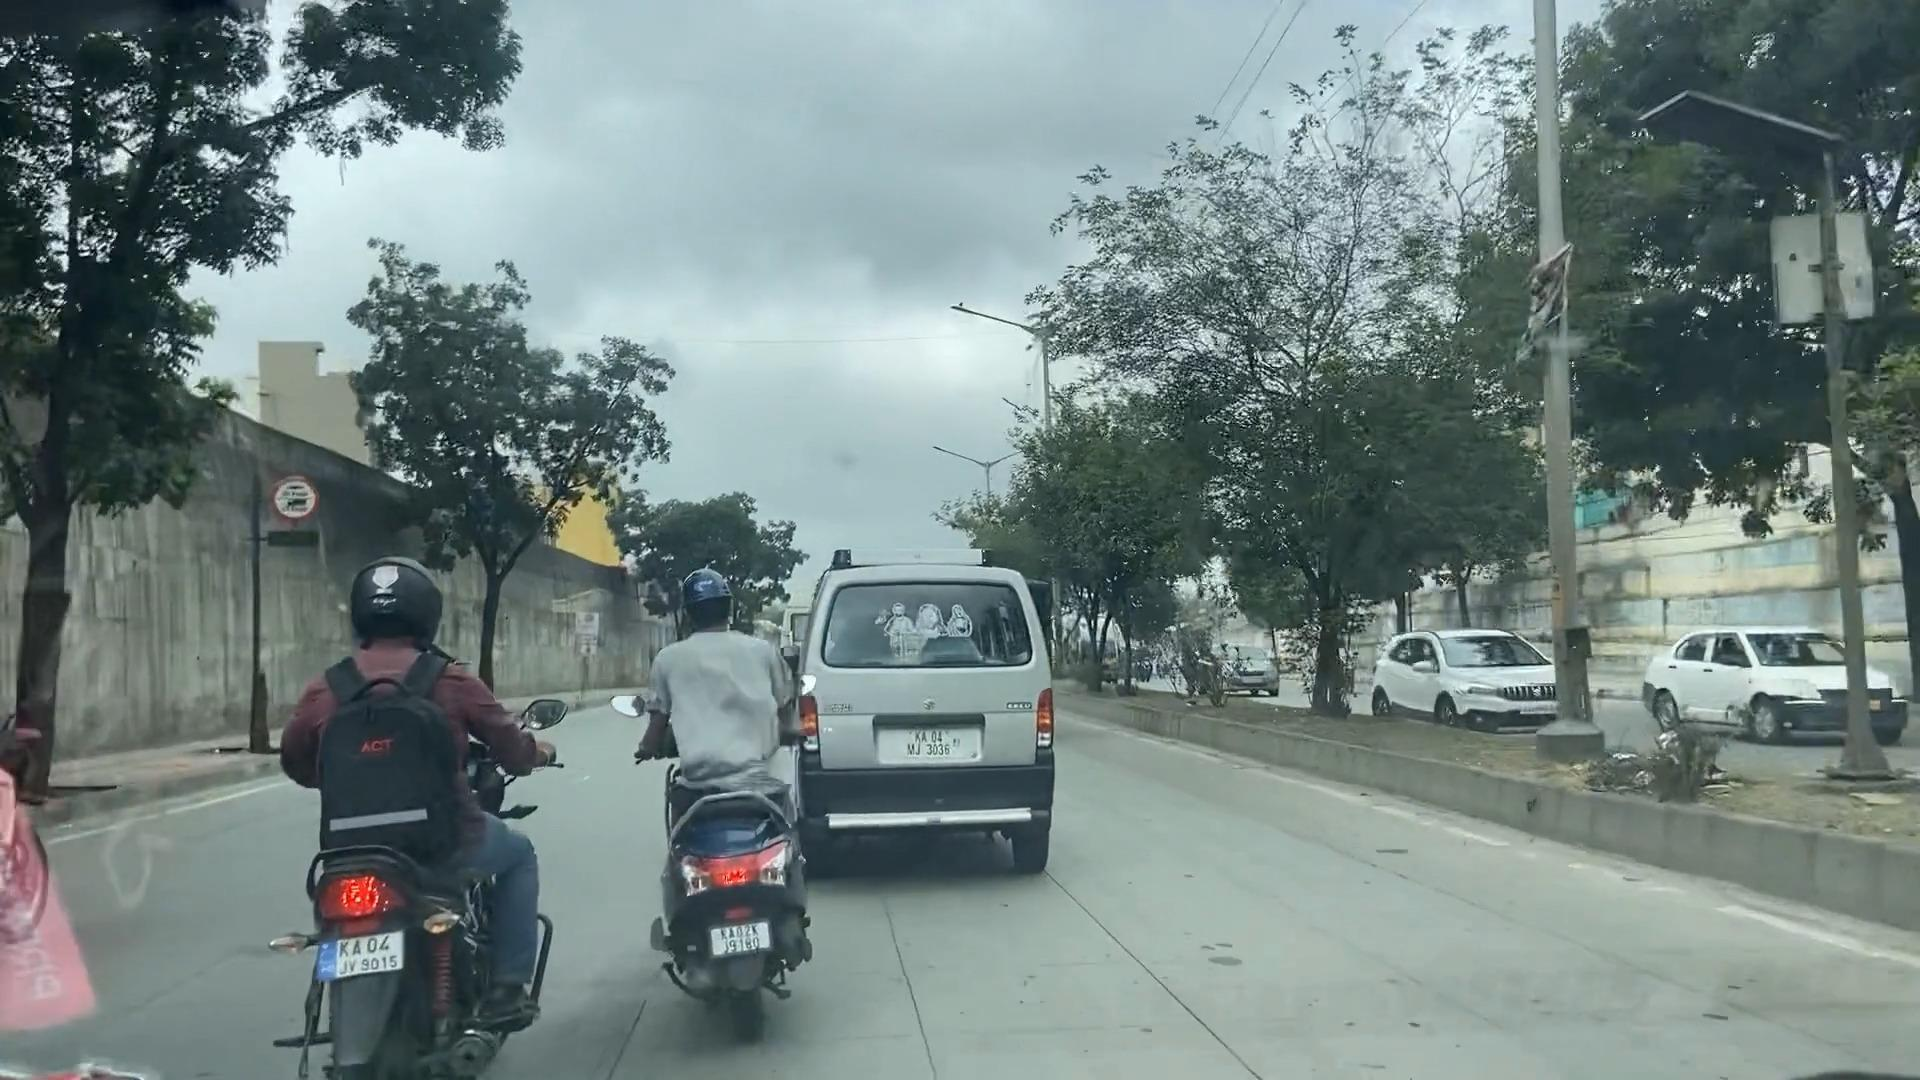LMV: (290, 555, 551, 1060), (783, 538, 1077, 882), (608, 566, 829, 1017)
